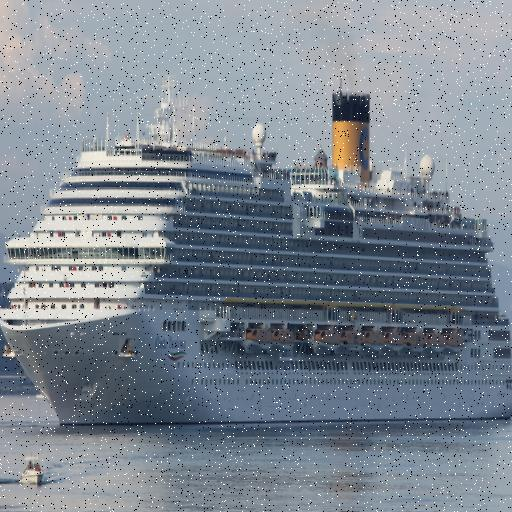cruises: (1, 76, 512, 439)
